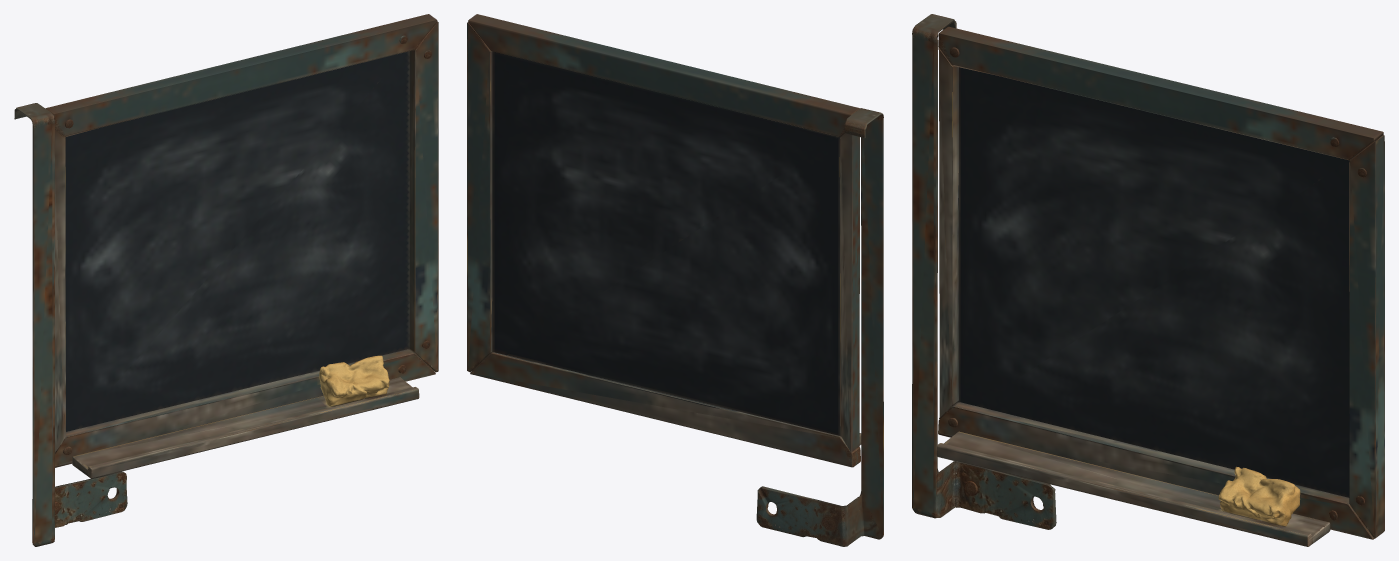
Rendered from silo81_blackboard.glb.
The picture shows the model from 3 angles, left to right: view 1: azimuth 30°, elevation 25°; view 2: azimuth 150°, elevation 25°; view 3: azimuth 330°, elevation 25°; orthographic projection. The views are drawn at different scales.
Bounding box in the file's own units: 0.9463 × 0.9521 × 0.1504.
Materials: 1 (1 with a texture image).
